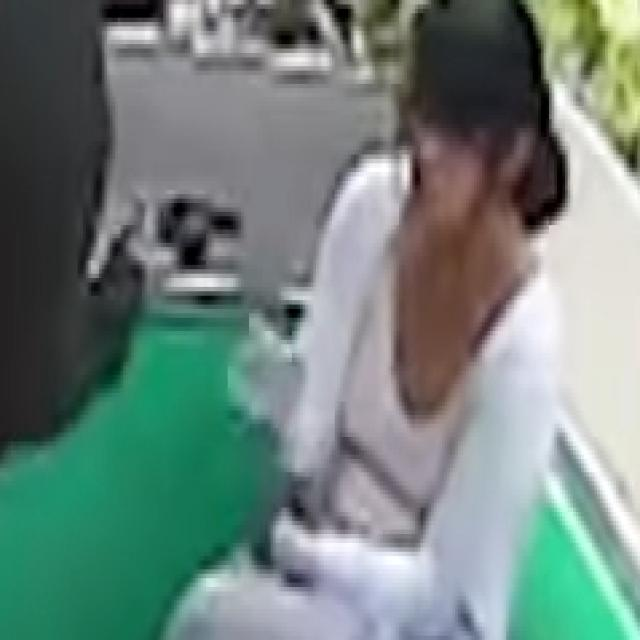FPistol: (160, 183, 247, 276)
